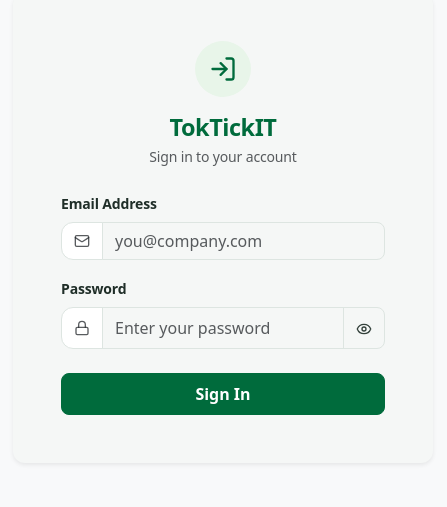
Test case: Login Component (UI-01, AC-01) › shows validation error messages when submitting empty form
The width and height of the screenshot is (447, 507).
What coordinates should you click on to do the following:
click the button "Sign In"
I would click on:
 (223, 394)
Its box is [61,373,385,415].
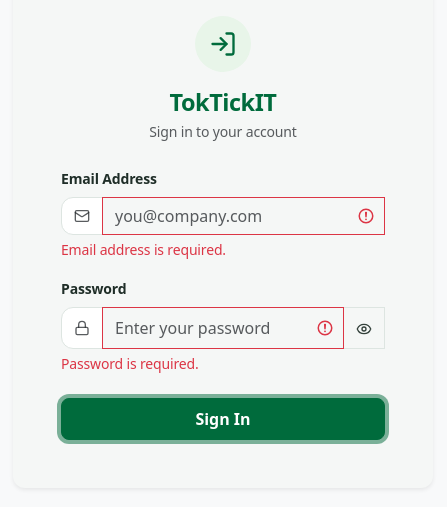
Result: the text "Email address is required." is shown at [61,240,226,259]
Result: the text "Password is required." is shown at [61,354,199,373]
